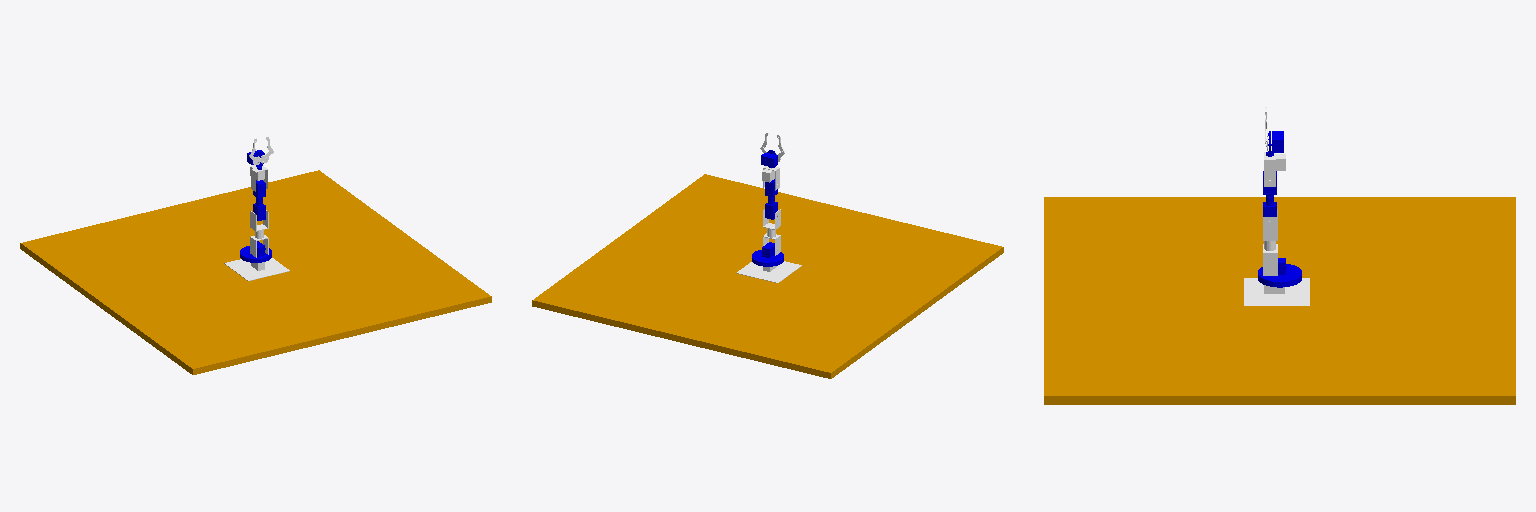
The robot description file, URDF, robot "arm":
<?xml version="1.0" encoding="utf-8"?>
<!-- =================================================================================== -->
<!-- |    This document was autogenerated by xacro from arm.xacro                      | -->
<!-- |    EDITING THIS FILE BY HAND IS NOT RECOMMENDED                                 | -->
<!-- =================================================================================== -->
<robot name="arm">
  <!-- Defining the colors used in this robot -->
  <material name="Black">
    <color rgba="0 0 0 1"/>
  </material>
  <material name="White">
    <color rgba="1 1 1 1"/>
  </material>
  <material name="Blue">
    <color rgba="0 0 1 1"/>
  </material>
  <material name="Red">
    <color rgba="1 0 0 1"/>
  </material>
  <!-- ///////////////////////////////////////   BOTTOM JOINT   ////////////////////////////////////////// -->
  <joint name="bottom_joint" type="fixed">
    <origin rpy="0 0 0" xyz="0 0 0"/>
    <parent link="base_link"/>
    <child link="bottom_link"/>
  </joint>
  <!-- ///////////////////////////////////////   BOTTOM LINK   ////////////////////////////////////////// -->
  <link name="bottom_link">
    <visual>
      <origin rpy="0 0 0" xyz=" 0 0 -0.02"/>
      <geometry>
        <box size="1 1 0.02"/>
      </geometry>
      <material name="Brown"/>
    </visual>
    <collision>
      <origin rpy="0 0 0" xyz=" 0 0 -0.02"/>
      <geometry>
        <box size="1 1 0.02"/>
      </geometry>
    </collision>
    <inertial>
      <mass value="500"/>
      <inertia ixx="1.0" ixy="0.0" ixz="0.0" iyy="0.5" iyz="0.0" izz="1.0"/>
    </inertial>
  </link>
  <!-- /////////////////////////////////////   BASE LINK    ////////////////////////////////////////////// -->
  <link name="base_link">
    <visual>
      <origin rpy="0 0 0" xyz="0 0 0"/>
      <geometry>
        <mesh filename="package://xarm_description/meshes/base_link.STL"/>
      </geometry>
      <material name="White"/>
    </visual>
    <collision>
      <origin rpy="0 0 0" xyz="0 0 0"/>
      <geometry>
        <mesh filename="package://xarm_description/meshes/base_link.STL"/>
      </geometry>
    </collision>
  </link>
  <!-- ///////////////////////////////////////   JOINT1   ////////////////////////////////////////// -->
  <joint name="joint1" type="revolute">
    <parent link="base_link"/>
    <child link="link1"/>
    <origin rpy="0 0 0" xyz="0 0 0.0335"/>
    <axis xyz="0 0 1"/>
    <limit effort="300" lower="-2.09439333333" upper="2.09439333333" velocity="1"/>
    <dynamics damping="50" friction="1"/>
  </joint>
  <!-- /////////////////////////////////////   LINK1  ////////////////////////////////////////////// -->
  <link name="link1">
    <visual>
      <origin rpy="0 0 0" xyz="0 0 0"/>
      <geometry>
        <mesh filename="package://xarm_description/meshes/link_1.STL"/>
      </geometry>
      <material name="Blue"/>
    </visual>
    <collision>
      <origin rpy="0 0 0" xyz="0 0 0"/>
      <geometry>
        <mesh filename="package://xarm_description/meshes/link_1.STL"/>
      </geometry>
    </collision>
    <inertial>
      <mass value="1"/>
      <inertia ixx="1.0" ixy="0.0" ixz="0.0" iyy="0.5" iyz="0.0" izz="1.0"/>
    </inertial>
  </link>
  <!-- ///////////////////////////////////////   JOINT2   ////////////////////////////////////////// -->
  <joint name="joint2" type="revolute">
    <parent link="link1"/>
    <child link="link2"/>
    <origin rpy="3.14159 1.570795 0" xyz="-0.022 -0.021 0.028"/>
    <axis xyz="0 0 1"/>
    <limit effort="300" lower="-2.09439333333" upper="2.09439333333" velocity="1"/>
    <dynamics damping="50" friction="1"/>
  </joint>
  <!-- ///////////////////////////////////////   LINK2  ////////////////////////////////////////////// -->
  <link name="link2">
    <visual>
      <origin rpy="0 0 0" xyz="0 0 0"/>
      <geometry>
        <mesh filename="package://xarm_description/meshes/link_2.STL"/>
      </geometry>
      <material name="White"/>
    </visual>
    <collision>
      <origin rpy="0 0 0" xyz="0 0 0"/>
      <geometry>
        <mesh filename="package://xarm_description/meshes/link_2.STL"/>
      </geometry>
    </collision>
    <inertial>
      <mass value="1"/>
      <inertia ixx="1.0" ixy="0.0" ixz="0.0" iyy="0.5" iyz="0.0" izz="1.0"/>
    </inertial>
  </link>
  <!-- ///////////////////////////////////////   JOINT3   ////////////////////////////////////////// -->
  <joint name="joint3" type="revolute">
    <parent link="link2"/>
    <child link="link3"/>
    <origin rpy="-3.14159 0 0" xyz="-0.111 0 -0.035"/>
    <axis xyz="0 0 1"/>
    <limit effort="300" lower="-2.09439333333" upper="2.09439333333" velocity="1"/>
    <dynamics damping="50" friction="1"/>
  </joint>
  <!-- /////////////////////////////////   LINK3  ///////////////////////////////////////////////////// -->
  <link name="link3">
    <visual>
      <origin rpy="0 0 0" xyz="0 0 0"/>
      <geometry>
        <mesh filename="package://xarm_description/meshes/link_3.STL"/>
      </geometry>
      <material name="Blue"/>
    </visual>
    <collision>
      <origin rpy="0 0 0" xyz="0 0 0"/>
      <geometry>
        <mesh filename="package://xarm_description/meshes/link_3.STL"/>
      </geometry>
    </collision>
    <inertial>
      <mass value="1"/>
      <inertia ixx="1.0" ixy="0.0" ixz="0.0" iyy="0.5" iyz="0.0" izz="1.0"/>
    </inertial>
  </link>
  <!-- ///////////////////////////////////////   JOINT3   ////////////////////////////////////////// -->
  <joint name="joint4" type="revolute">
    <parent link="link3"/>
    <child link="link4"/>
    <origin rpy="3.14159 0 0" xyz="-0.096 0 -0.034"/>
    <axis xyz="0 0 1"/>
    <limit effort="300" lower="-2.09439333333" upper="2.09439333333" velocity="1"/>
    <dynamics damping="50" friction="1"/>
  </joint>
  <!-- ///////////////////////////////////   LINK4  //////////////////////////////////////////////// -->
  <link name="link4">
    <visual>
      <origin rpy="0 0 0" xyz="0 0 0"/>
      <geometry>
        <mesh filename="package://xarm_description/meshes/link_4.STL"/>
      </geometry>
      <material name="White"/>
    </visual>
    <collision>
      <origin rpy="0 0 0" xyz="0 0 0"/>
      <geometry>
        <mesh filename="package://xarm_description/meshes/link_4.STL"/>
      </geometry>
    </collision>
    <inertial>
      <mass value="1"/>
      <inertia ixx="1.0" ixy="0.0" ixz="0.0" iyy="0.5" iyz="0.0" izz="1.0"/>
    </inertial>
  </link>
  <!-- ///////////////////////////////////////   JOINT4   ////////////////////////////////////////// -->
  <joint name="joint5" type="revolute">
    <parent link="link4"/>
    <child link="link5"/>
    <origin rpy="1.570795 0 -1.570795" xyz="-0.053 0 -0.021"/>
    <axis xyz="0 0 -1"/>
    <limit effort="300" lower="-2.09439333333" upper="2.09439333333" velocity="1"/>
    <dynamics damping="50" friction="1"/>
  </joint>
  <!-- //////////////////////////////////   LINK5  ///////////////////////////////////////////////// -->
  <link name="link5">
    <visual>
      <origin rpy="0 0 0" xyz="0 0 0"/>
      <geometry>
        <mesh filename="package://xarm_description/meshes/gripper.STL"/>
      </geometry>
      <material name="Blue"/>
    </visual>
    <collision>
      <origin rpy="0 0 0" xyz="0 0 0"/>
      <geometry>
        <mesh filename="package://xarm_description/meshes/gripper.STL"/>
      </geometry>
    </collision>
    <inertial>
      <mass value="1"/>
      <inertia ixx="1.0" ixy="0.0" ixz="0.0" iyy="0.5" iyz="0.0" izz="1.0"/>
    </inertial>
  </link>
  <!-- ///////////////////////////////////////   GRIPPER RIGHT JOINT1   ////////////////////////////////////////// -->
  <joint name="gripper_right_joint1" type="revolute">
    <parent link="link5"/>
    <child link="gripper_right_link1"/>
    <origin rpy="1.570795 -0.7853975 -1.570795" xyz="-0.008 -0.014 0.030"/>
    <axis xyz="0 0 -1"/>
    <limit effort="300" lower="-0.628318" upper="0.628318" velocity="1"/>
    <dynamics damping="50" friction="1"/>
  </joint>
  <!-- ///////////////////////////////////////   GRIPPER RIGHT LINK1   ////////////////////////////////////////// -->
  <link name="gripper_right_link1">
    <visual>
      <origin rpy="0 0 0" xyz="0 0 0"/>
      <geometry>
        <mesh filename="package://xarm_description/meshes/gripper_r1.STL"/>
      </geometry>
      <material name="White"/>
    </visual>
    <collision>
      <origin rpy="0 0 0" xyz="0 0 0"/>
      <geometry>
        <mesh filename="package://xarm_description/meshes/gripper_r1.STL"/>
      </geometry>
    </collision>
    <inertial>
      <mass value="1"/>
      <inertia ixx="1.0" ixy="0.0" ixz="0.0" iyy="0.5" iyz="0.0" izz="1.0"/>
    </inertial>
  </link>
  <!-- ///////////////////////////////////////   GRIPPER RIGHT JOINT2   ////////////////////////////////////////// -->
  <joint name="gripper_right_joint2" type="revolute">
    <parent link="gripper_right_link1"/>
    <child link="gripper_right_link2"/>
    <origin rpy="0 0 1.30899583333" xyz="0.029 -0.002 0.0039"/>
    <axis xyz="0 0 1"/>
    <limit effort="300" lower="-0.628318" upper="0.628318" velocity="1"/>
    <dynamics damping="50" friction="1"/>
    <mimic joint="gripper_right_joint1" multiplier="1" offset="0"/>
  </joint>
  <gazebo>
    <plugin filename="libroboticsgroup_gazebo_mimic_joint_plugin.so" name="gripper_right_joint2mimic_joint_plugin">
      <joint>gripper_right_joint1</joint>
      <mimicJoint>gripper_right_joint2</mimicJoint>
      <multiplier>1.0</multiplier>
      <offset>0</offset>
      <sensitiveness>0.0</sensitiveness>
      <!-- if absolute difference between setpoint and process value is below this threshold, do nothing; 0.0 = disable [rad] -->
      <maxEffort>10.0</maxEffort>
      <!-- only taken into account if has_pid:=true [Nm] -->
      <robotNamespace>/arm</robotNamespace>
    </plugin>
  </gazebo>
  <!-- ///////////////////////////////////////   GRIPPER RIGHT LINK2   ////////////////////////////////////////// -->
  <link name="gripper_right_link2">
    <visual>
      <origin rpy="0 0 0" xyz="0 0 0"/>
      <geometry>
        <mesh filename="package://xarm_description/meshes/end_r.STL"/>
      </geometry>
      <material name="White"/>
    </visual>
    <collision>
      <origin rpy="0 0 0" xyz="0 0 0"/>
      <geometry>
        <mesh filename="package://xarm_description/meshes/end_r.STL"/>
      </geometry>
    </collision>
    <inertial>
      <mass value="1"/>
      <inertia ixx="1.0" ixy="0.0" ixz="0.0" iyy="0.5" iyz="0.0" izz="1.0"/>
    </inertial>
  </link>
  <!-- ///////////////////////////////////////   GRIPPER LEFT JOINT1   ////////////////////////////////////////// -->
  <joint name="gripper_left_joint1" type="revolute">
    <parent link="link5"/>
    <child link="gripper_left_link1"/>
    <origin rpy="-1.570795 -0.7853975 1.570795" xyz="-0.008 0.014 0.030"/>
    <axis xyz="0 0 1"/>
    <limit effort="300" lower="-0.628318" upper="0.628318" velocity="1"/>
    <dynamics damping="50" friction="1"/>
    <mimic joint="gripper_right_joint1" multiplier="1" offset="0"/>
  </joint>
  <gazebo>
    <plugin filename="libroboticsgroup_gazebo_mimic_joint_plugin.so" name="gripper_left_joint1mimic_joint_plugin">
      <joint>gripper_right_joint1</joint>
      <mimicJoint>gripper_left_joint1</mimicJoint>
      <multiplier>1.0</multiplier>
      <offset>0</offset>
      <sensitiveness>0.0</sensitiveness>
      <!-- if absolute difference between setpoint and process value is below this threshold, do nothing; 0.0 = disable [rad] -->
      <maxEffort>10.0</maxEffort>
      <!-- only taken into account if has_pid:=true [Nm] -->
      <robotNamespace>/arm</robotNamespace>
    </plugin>
  </gazebo>
  <!-- ///////////////////////////////////////   GRIPPER LEFT LINK1   ////////////////////////////////////////// -->
  <link name="gripper_left_link1">
    <visual>
      <origin rpy="0 0 0" xyz="0 0 0"/>
      <geometry>
        <mesh filename="package://xarm_description/meshes/gripper_l1.STL"/>
      </geometry>
      <material name="White"/>
    </visual>
    <collision>
      <origin rpy="0 0 0" xyz="0 0 0"/>
      <geometry>
        <mesh filename="package://xarm_description/meshes/gripper_l1.STL"/>
      </geometry>
    </collision>
    <inertial>
      <mass value="1"/>
      <inertia ixx="1.0" ixy="0.0" ixz="0.0" iyy="0.5" iyz="0.0" izz="1.0"/>
    </inertial>
  </link>
  <!-- ///////////////////////////////////////   GRIPPER LEFT JOINT2   ////////////////////////////////////////// -->
  <joint name="gripper_left_joint2" type="revolute">
    <parent link="gripper_left_link1"/>
    <child link="gripper_left_link2"/>
    <origin rpy="0 0 -1.30899583333" xyz="0.029 -0.001 0.003"/>
    <axis xyz="0 0 1"/>
    <limit effort="300" lower="-0.628318" upper="0.628318" velocity="1"/>
    <dynamics damping="50" friction="1"/>
    <mimic joint="gripper_right_joint2" multiplier="-1" offset="0"/>
  </joint>
  <gazebo>
    <plugin filename="libroboticsgroup_gazebo_mimic_joint_plugin.so" name="gripper_left_joint2mimic_joint_plugin">
      <joint>gripper_right_joint2</joint>
      <mimicJoint>gripper_left_joint2</mimicJoint>
      <multiplier>-1.0</multiplier>
      <offset>0</offset>
      <sensitiveness>0.0</sensitiveness>
      <!-- if absolute difference between setpoint and process value is below this threshold, do nothing; 0.0 = disable [rad] -->
      <maxEffort>10.0</maxEffort>
      <!-- only taken into account if has_pid:=true [Nm] -->
      <robotNamespace>/arm</robotNamespace>
    </plugin>
  </gazebo>
  <!-- ///////////////////////////////////////   GRIPPER LEFT LINK2   ////////////////////////////////////////// -->
  <link name="gripper_left_link2">
    <visual>
      <origin rpy="0 0 0" xyz="0 0 0"/>
      <geometry>
        <mesh filename="package://xarm_description/meshes/end_l.STL"/>
      </geometry>
      <material name="White"/>
    </visual>
    <collision>
      <origin rpy="0 0 0" xyz="0 0 0"/>
      <geometry>
        <mesh filename="package://xarm_description/meshes/end_l.STL"/>
      </geometry>
    </collision>
    <inertial>
      <mass value="1"/>
      <inertia ixx="1.0" ixy="0.0" ixz="0.0" iyy="0.5" iyz="0.0" izz="1.0"/>
    </inertial>
  </link>
  <!-- ///////////////////////////////////////   GRASPING FRAME   ////////////////////////////////////////// -->
  <link name="grasping_frame"/>
  <joint name="grasping_frame_joint" type="fixed">
    <parent link="link5"/>
    <child link="grasping_frame"/>
    <origin rpy="0 0 0" xyz="0 0 0"/>
  </joint>
  <!-- /////////////////////////////////   Gazebo   ////////////////////////////////////// -->
  <gazebo reference="bottom_link">
    <material>Gazebo/White</material>
  </gazebo>
  <gazebo reference="base_link">
    <material>Gazebo/White</material>
  </gazebo>
  <gazebo reference="link1">
    <material>Gazebo/Blue</material>
  </gazebo>
  <gazebo reference="link2">
    <material>Gazebo/White</material>
  </gazebo>
  <gazebo reference="link3">
    <material>Gazebo/Blue</material>
  </gazebo>
  <gazebo reference="link4">
    <material>Gazebo/White</material>
  </gazebo>
  <gazebo reference="link5">
    <material>Gazebo/Blue</material>
  </gazebo>
  <gazebo reference="gripper_right_link1">
    <material>Gazebo/White</material>
  </gazebo>
  <gazebo reference="gripper_right_link2">
    <material>Gazebo/White</material>
  </gazebo>
  <gazebo reference="gripper_left_link1">
    <material>Gazebo/White</material>
  </gazebo>
  <gazebo reference="gripper_left_link2">
    <material>Gazebo/White</material>
  </gazebo>
  <transmission name="tran1">
    <type>transmission_interface/SimpleTransmission</type>
    <joint name="joint1">
      <hardwareInterface>hardware_interface/PositionJointInterface</hardwareInterface>
    </joint>
    <actuator name="motor1">
      <hardwareInterface>hardware_interface/PositionJointInterface</hardwareInterface>
      <mechanicalReduction>1</mechanicalReduction>
    </actuator>
  </transmission>
  <transmission name="tran1">
    <type>transmission_interface/SimpleTransmission</type>
    <joint name="joint2">
      <hardwareInterface>hardware_interface/PositionJointInterface</hardwareInterface>
    </joint>
    <actuator name="motor1">
      <hardwareInterface>hardware_interface/PositionJointInterface</hardwareInterface>
      <mechanicalReduction>1</mechanicalReduction>
    </actuator>
  </transmission>
  <transmission name="tran1">
    <type>transmission_interface/SimpleTransmission</type>
    <joint name="joint3">
      <hardwareInterface>hardware_interface/PositionJointInterface</hardwareInterface>
    </joint>
    <actuator name="motor1">
      <hardwareInterface>hardware_interface/PositionJointInterface</hardwareInterface>
      <mechanicalReduction>1</mechanicalReduction>
    </actuator>
  </transmission>
  <transmission name="tran1">
    <type>transmission_interface/SimpleTransmission</type>
    <joint name="joint4">
      <hardwareInterface>hardware_interface/PositionJointInterface</hardwareInterface>
    </joint>
    <actuator name="motor1">
      <hardwareInterface>hardware_interface/PositionJointInterface</hardwareInterface>
      <mechanicalReduction>1</mechanicalReduction>
    </actuator>
  </transmission>
  <transmission name="tran1">
    <type>transmission_interface/SimpleTransmission</type>
    <joint name="joint5">
      <hardwareInterface>hardware_interface/PositionJointInterface</hardwareInterface>
    </joint>
    <actuator name="motor1">
      <hardwareInterface>hardware_interface/PositionJointInterface</hardwareInterface>
      <mechanicalReduction>1</mechanicalReduction>
    </actuator>
  </transmission>
  <transmission name="tran1">
    <type>transmission_interface/SimpleTransmission</type>
    <joint name="gripper_right_joint1">
      <hardwareInterface>hardware_interface/PositionJointInterface</hardwareInterface>
    </joint>
    <actuator name="motor1">
      <hardwareInterface>hardware_interface/PositionJointInterface</hardwareInterface>
      <mechanicalReduction>1</mechanicalReduction>
    </actuator>
  </transmission>
  <!-- ros_control plugin -->
  <gazebo>
    <plugin filename="libgazebo_ros_control.so" name="gazebo_ros_control">
      <robotNamespace>/arm</robotNamespace>
    </plugin>
  </gazebo>
</robot>

--- Facts derived from the render (not from the file) ---
The picture shows the robot from 3 angles, left to right: view 1: azimuth 30°, elevation 25°; view 2: azimuth 150°, elevation 25°; view 3: azimuth 270°, elevation 25°; orthographic projection.
Model arm with 12 links and 11 joints (9 revolute, 2 fixed), rooted at base_link, posed every joint at zero.
Visible links, largest first — view 1: bottom_link, base_link, link2; view 2: bottom_link, base_link, link1; view 3: bottom_link, base_link, link2, link1, link4.
Link boxes in pixels (<box>): bottom_link: <box>20,170,491,374</box>; base_link: <box>224,258,289,280</box>; link2: <box>250,210,268,257</box>; bottom_link: <box>532,174,1003,378</box>; base_link: <box>737,261,801,282</box>; link1: <box>752,242,783,266</box>; bottom_link: <box>1044,197,1515,404</box>; base_link: <box>1244,278,1309,305</box>; link2: <box>1263,209,1277,275</box>; link1: <box>1258,258,1301,287</box>; link4: <box>1264,152,1285,186</box>.
Size in the robot's own frame: 1 by 1 by 0.4557 metres.
Meshes: 10 distinct files referenced, 10 mesh visuals loaded (10 binary STL).